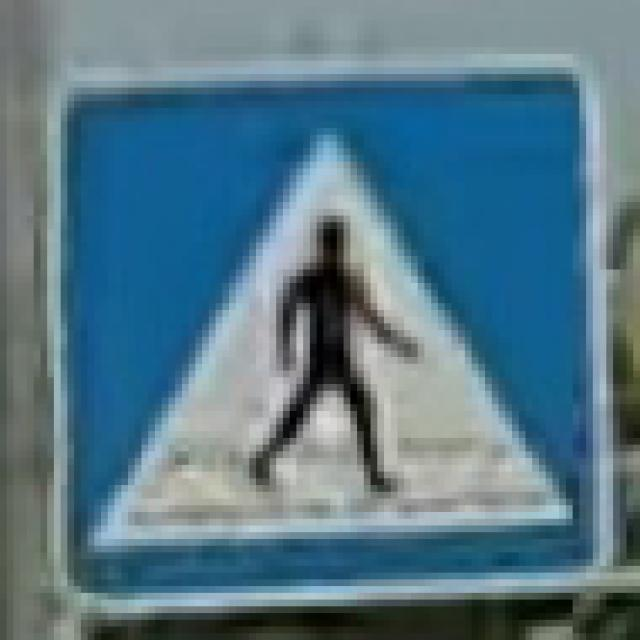zebracrossing_sign: (40, 54, 613, 599)
